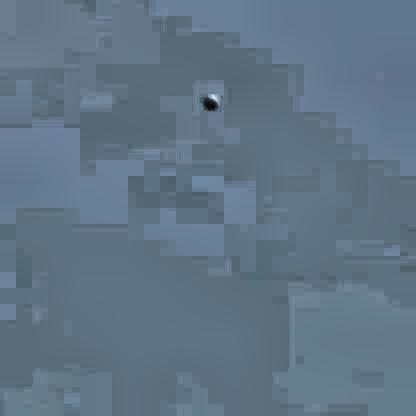golfball: (199, 89, 215, 107)
